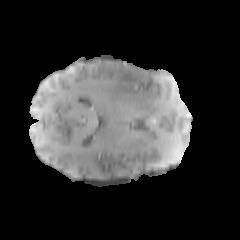glioma: (75, 59, 156, 103)
